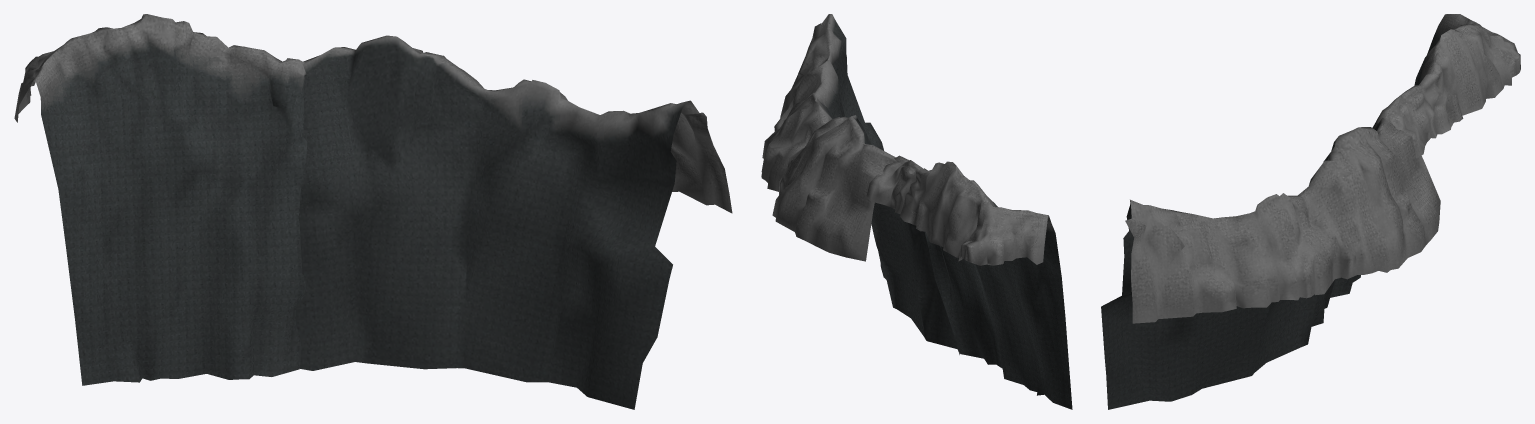
The model's file is clod_terrain_04_04_clod_003.gltf.
The picture shows the model from 3 angles, left to right: view 1: azimuth 30°, elevation 25°; view 2: azimuth 150°, elevation 25°; view 3: azimuth 270°, elevation 25°; orthographic projection. The views are drawn at different scales.
Parts seen in each view (by area): view 1: um_clod_terrain_04_04_clod_003_0_Shape1:aggregation_mat; view 2: um_clod_terrain_04_04_clod_003_0_Shape1:aggregation_mat; view 3: um_clod_terrain_04_04_clod_003_0_Shape1:aggregation_mat.
Part boxes in pixels (<box>): um_clod_terrain_04_04_clod_003_0_Shape1:aggregation_mat: <box>14,14,732,409</box>; um_clod_terrain_04_04_clod_003_0_Shape1:aggregation_mat: <box>761,14,1072,409</box>; um_clod_terrain_04_04_clod_003_0_Shape1:aggregation_mat: <box>1101,14,1520,409</box>.
Size of the model in its own units: 656 by 384 by 551.
1 material, 1 textured.
